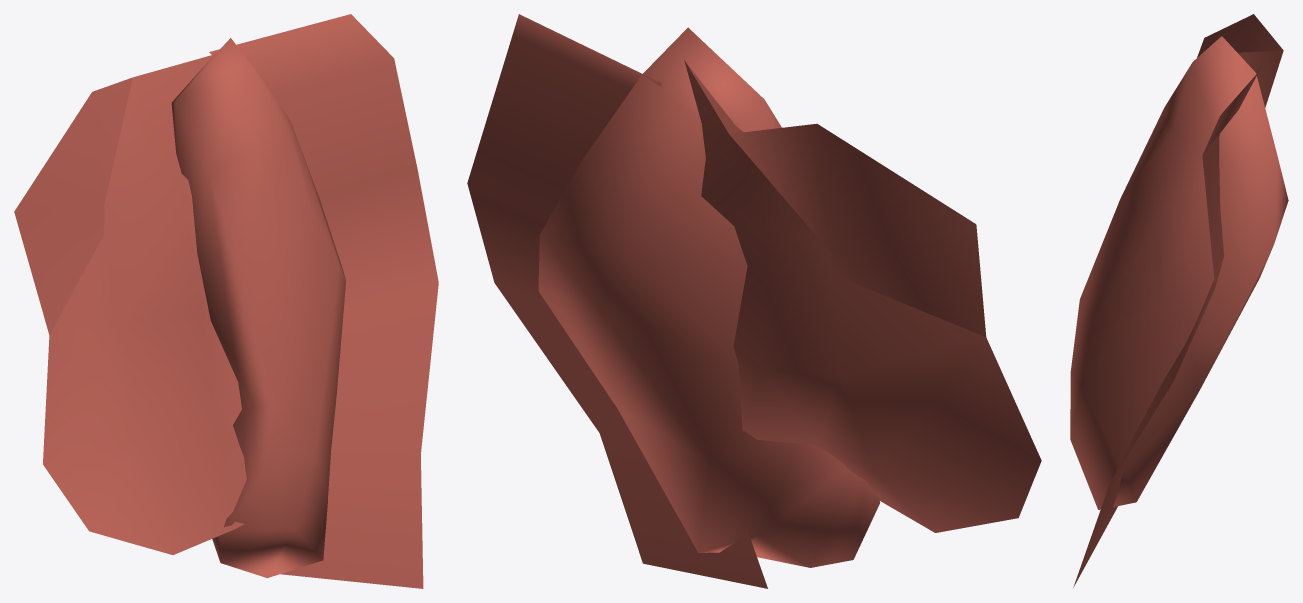
Rendered from fx_char_gib_chunk_flesh03.glb.
The picture shows the model from 3 angles, left to right: view 1: azimuth 30°, elevation 25°; view 2: azimuth 150°, elevation 25°; view 3: azimuth 270°, elevation 25°; orthographic projection. The views are drawn at different scales.
Parts seen in each view (by area): view 1: fx_char_gib_chunk_flesh03; view 2: fx_char_gib_chunk_flesh03; view 3: fx_char_gib_chunk_flesh03.
Part boxes in pixels (x1,y1,x2,y2): fx_char_gib_chunk_flesh03: (14,14,438,588); fx_char_gib_chunk_flesh03: (467,14,1041,588); fx_char_gib_chunk_flesh03: (1070,14,1288,587).
Bounding box in the file's own units: 3.89 × 4.6 × 1.82.
